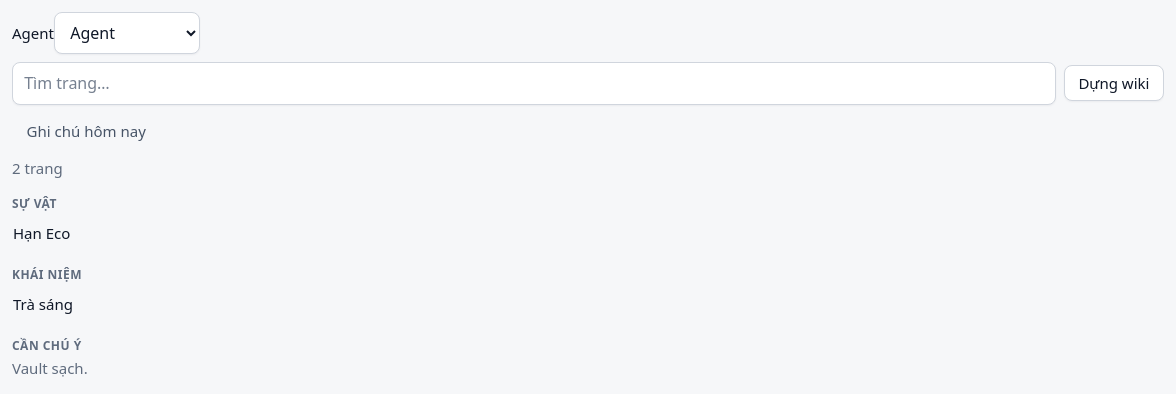
Test: WikiSection read mode › follows a [ [link]] to the page it names
The image size is (1176, 394).
What coordinates should you click on to do the following:
click the button "Hạn Eco"
I would click on:
 (42, 233)
Its box is left=12, top=215, right=71, bottom=251.
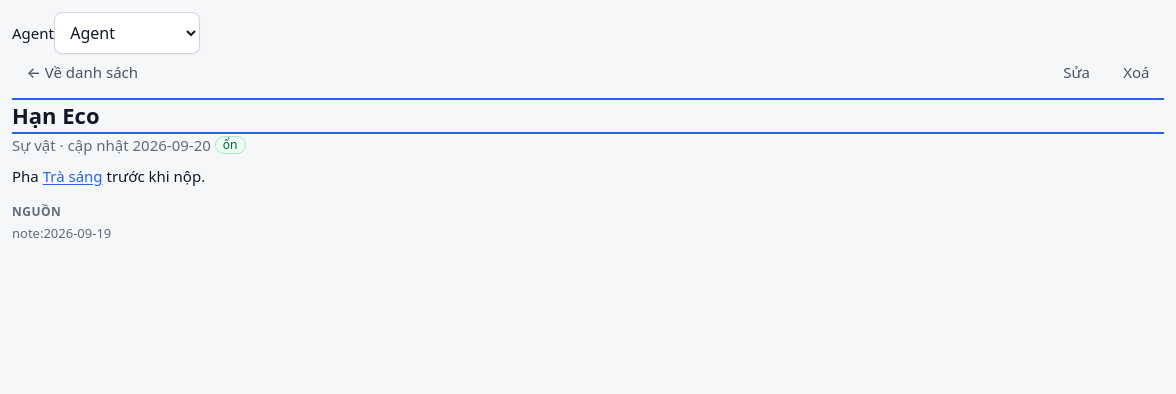
What coordinates should you click on to do the following:
click the button "Trà sáng"
I would click on:
 (73, 176)
Its box is left=43, top=165, right=103, bottom=188.
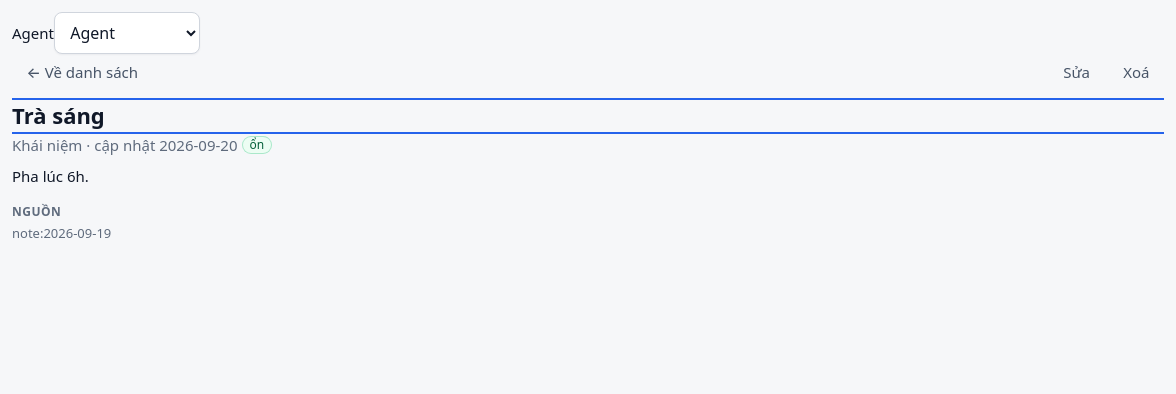
Result: the heading "Trà sáng" is shown at left=12, top=100, right=105, bottom=130
Result: the element with test id "wiki-page" shows "Pha lúc 6h." at left=12, top=166, right=89, bottom=186
